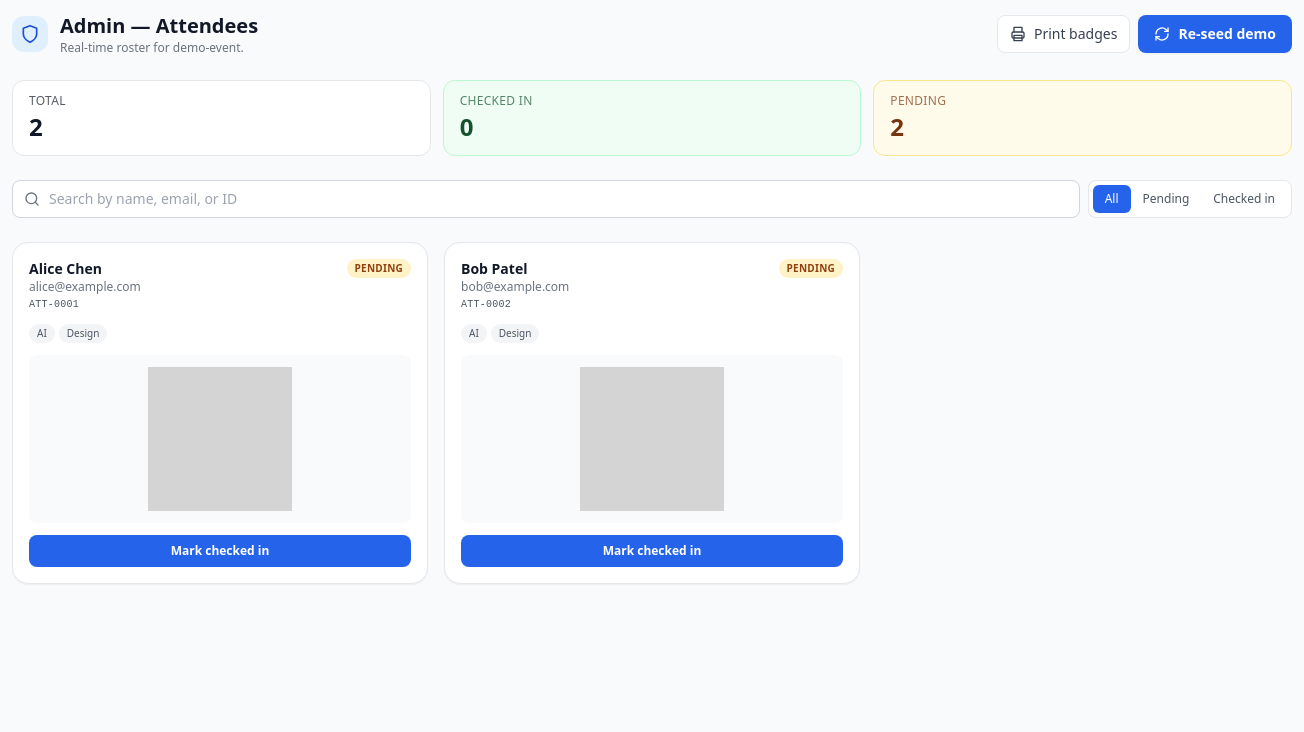
Test: <AdminPage /> › roster rendering › filters by search term (name/email/id)
The image size is (1304, 732).
Step 1. Type "bob" into the search field with placeholder "Search by name, email, or ID" → (546, 199), box [12,180,1080,218]
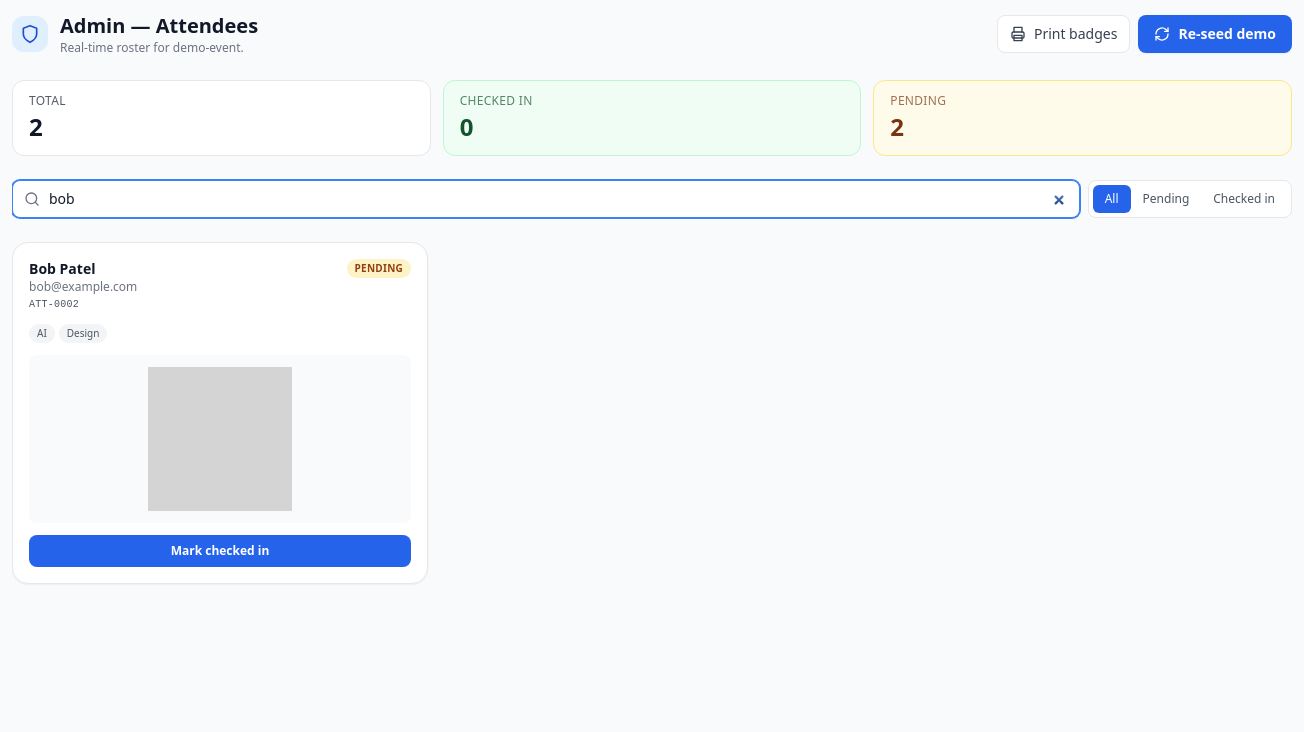
Expected: the heading "Bob Patel" is shown, [29,259,96,278]
Result: the heading "Alice Chen" is gone
